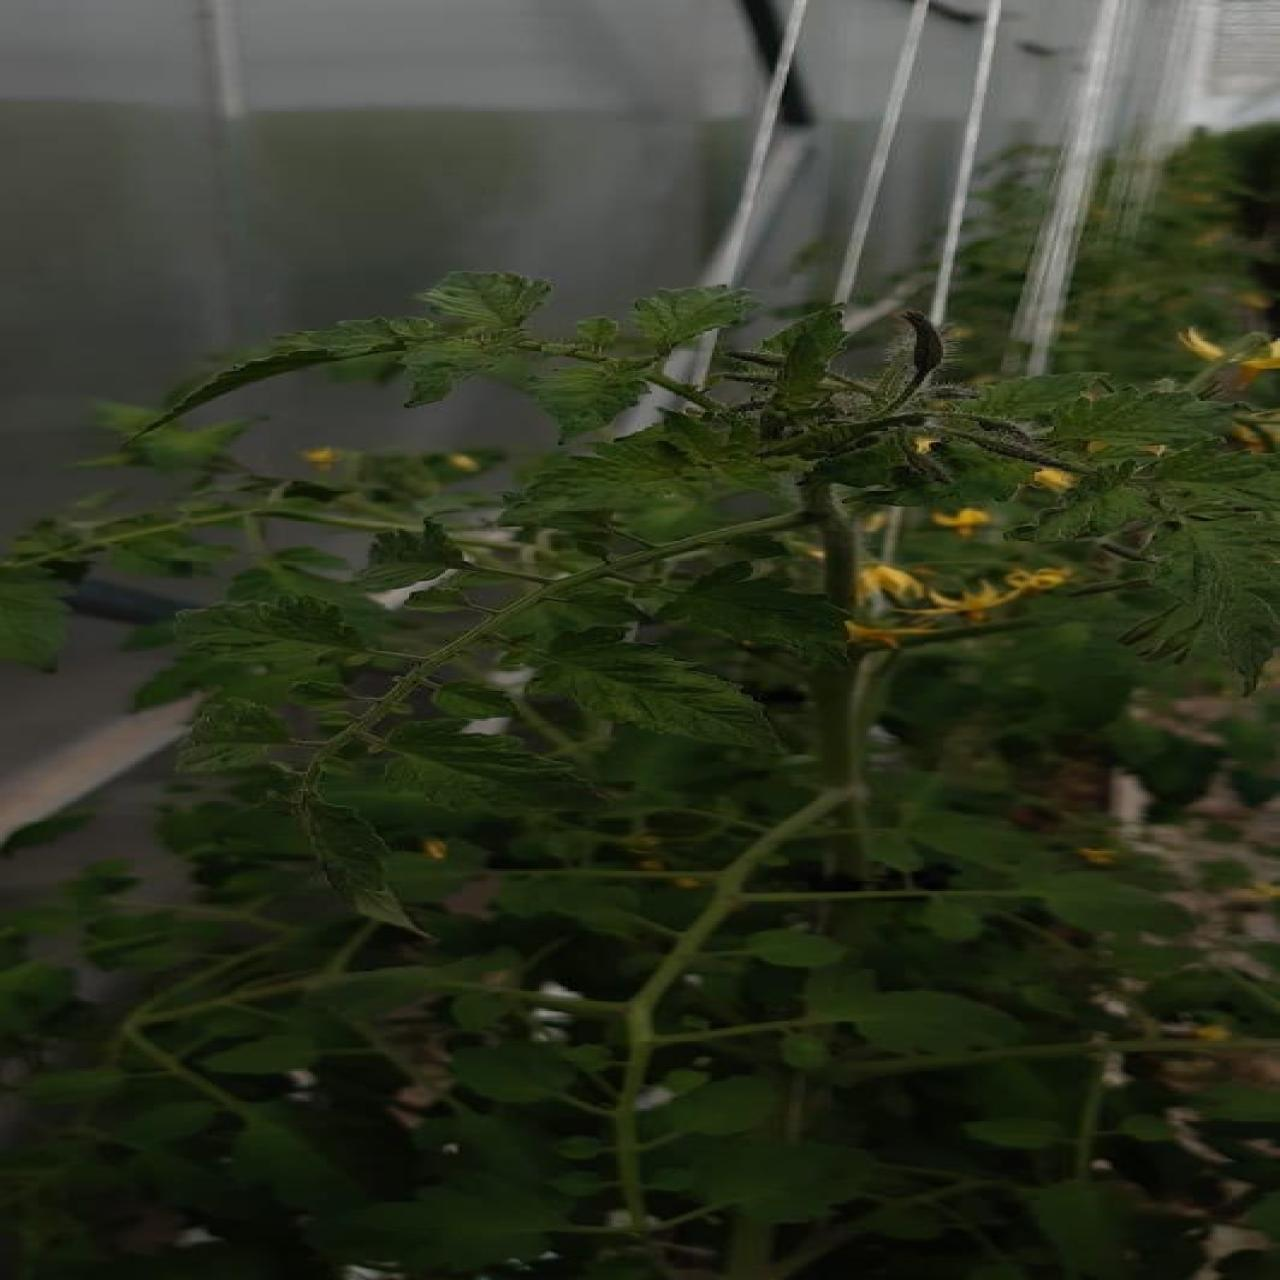T_L_H: (129, 316, 440, 437), (526, 359, 649, 438), (629, 285, 749, 358), (415, 271, 545, 324)
T_S_H: (290, 508, 813, 835)
